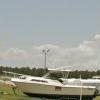Boat: (7, 66, 95, 99)
